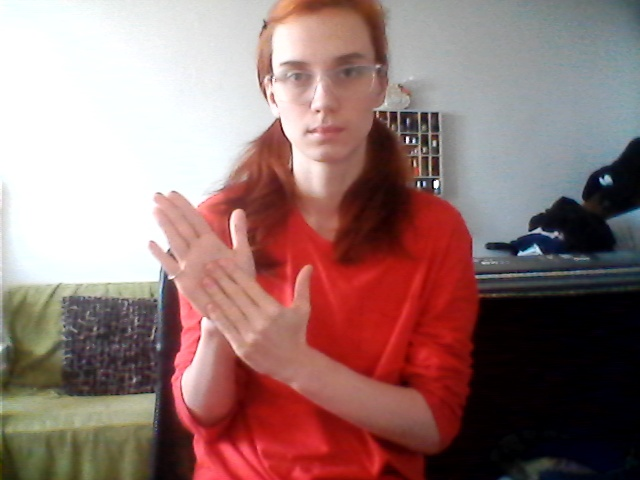m: (139, 183, 325, 377)
